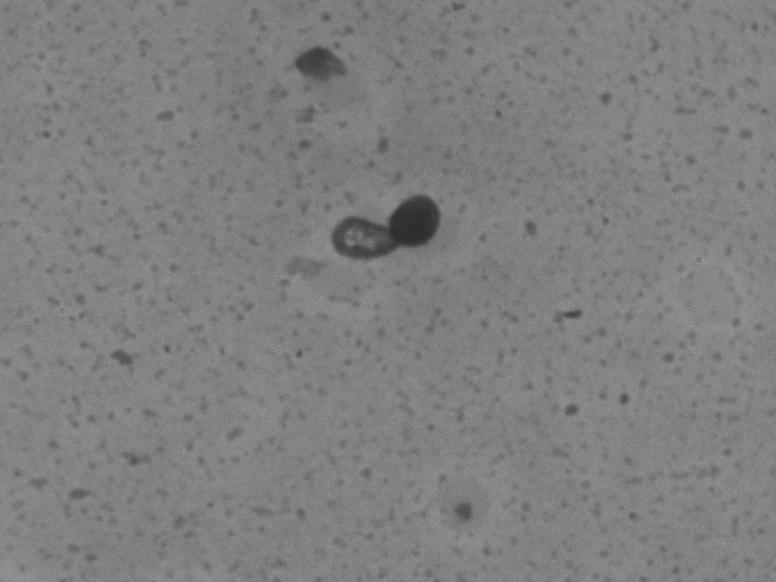Abnormal: (318, 130, 454, 298)
